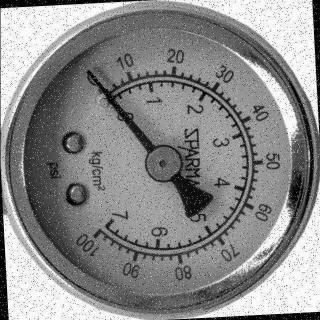gauge: (0, 0, 320, 320), (96, 86, 136, 128), (144, 144, 184, 183), (87, 211, 123, 245), (83, 66, 98, 82)
